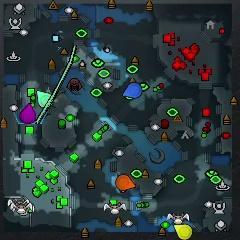p1: (124, 82, 142, 98)
p2: (36, 91, 52, 107)
p3: (20, 103, 36, 123)
p4: (174, 224, 192, 239)
p5: (116, 175, 135, 189)
